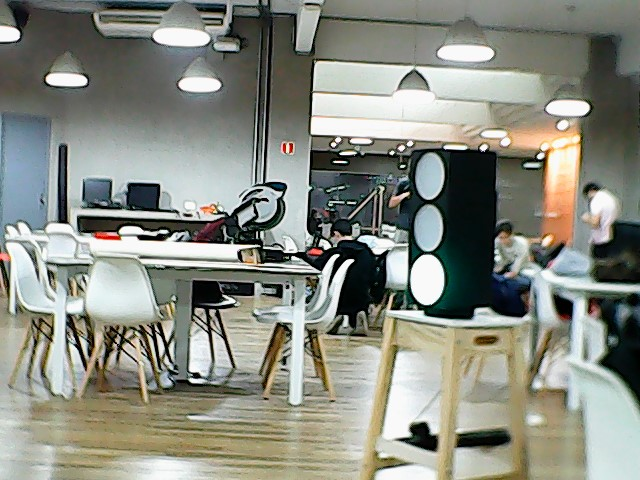verde: (408, 145, 496, 311)
